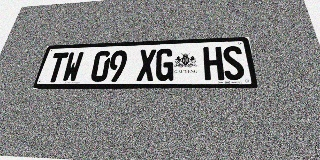0: (90, 51, 112, 82)
9: (107, 50, 128, 82)
G: (155, 48, 174, 81)
H: (203, 47, 224, 80)
S: (222, 46, 246, 80)
T: (45, 52, 69, 82)
W: (61, 52, 84, 82)
X: (136, 49, 156, 81)
